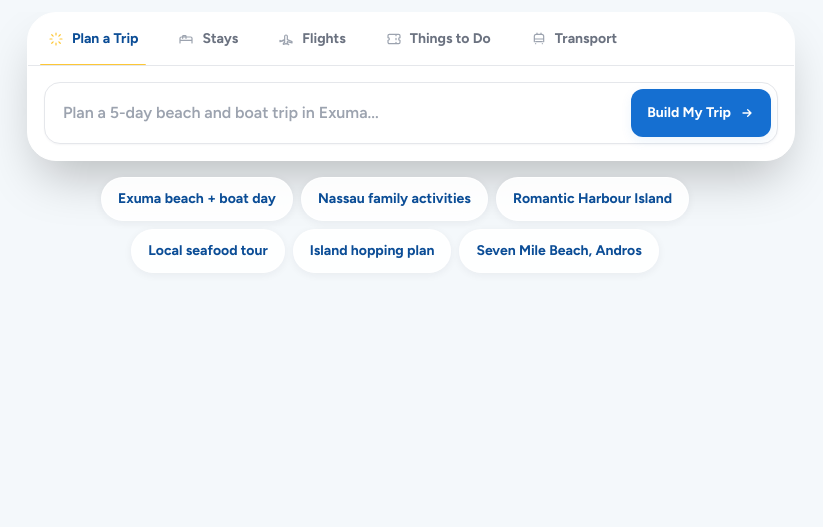
Test: MarketingHeroSearch › keeps flight destination autocomplete and traveler controls modern while preserving form values
The image size is (823, 527).
Click the tab "Flights": (312, 39) top-left (258, 13), bottom-right (366, 65)
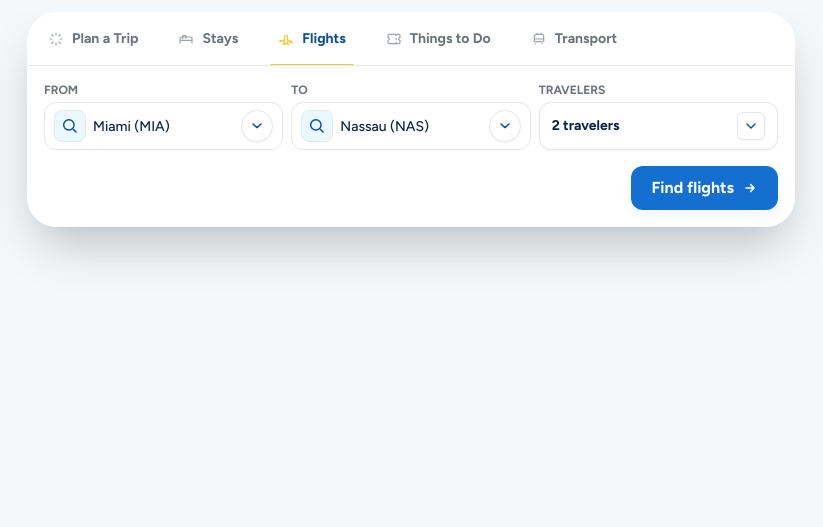
Replace the text in the dropdown labelled "To" with "exuma": (411, 126) top-left (291, 102), bottom-right (531, 150)
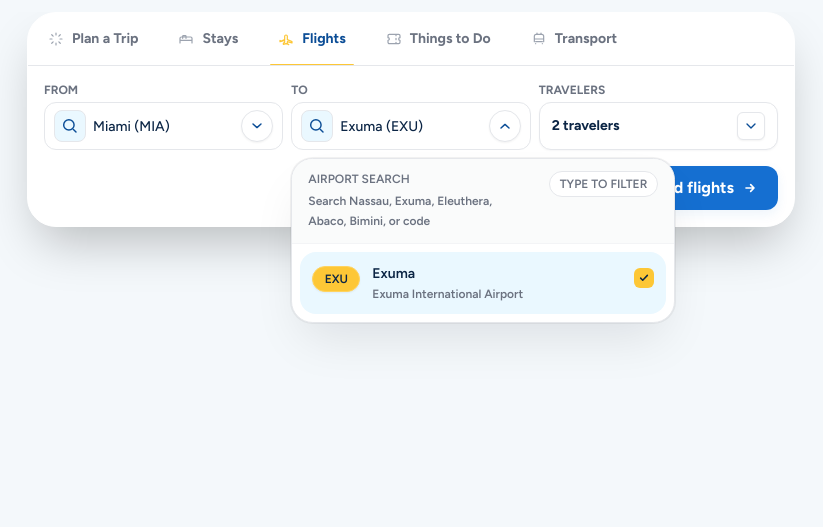
Expected: the text "Exuma International Airport" is shown, top-left (372, 287), bottom-right (523, 301)
Press the mouse on the option "EXU Exuma Exuma International Airport": (336, 279) top-left (300, 252), bottom-right (666, 314)
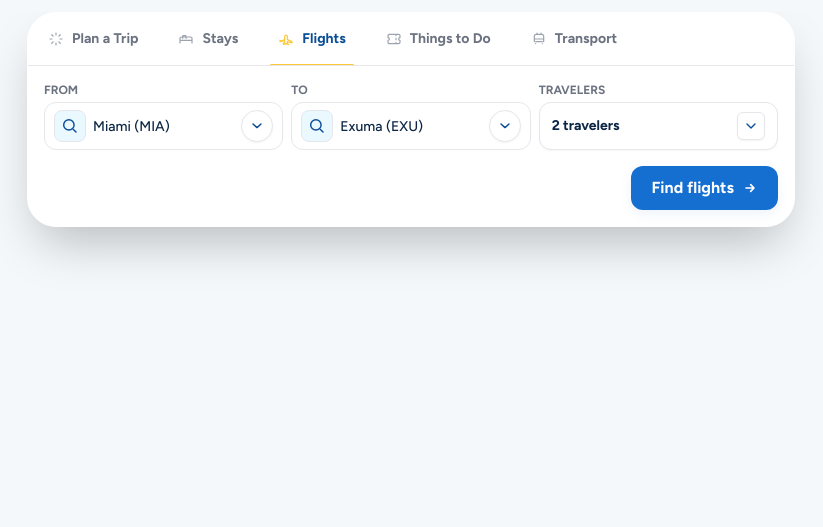
Click the button with aria-label "Open Travelers menu": (658, 126) top-left (539, 102), bottom-right (778, 150)
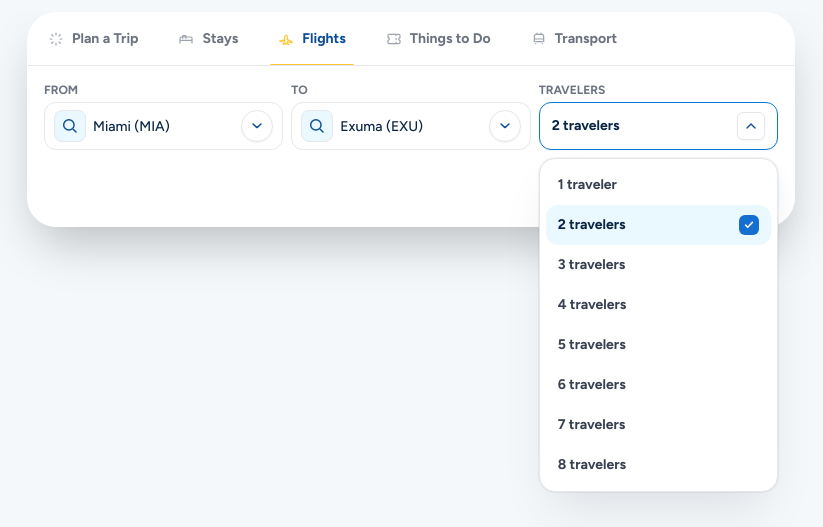
Press the mouse on the option "3 travelers": (658, 265) top-left (546, 245), bottom-right (771, 285)
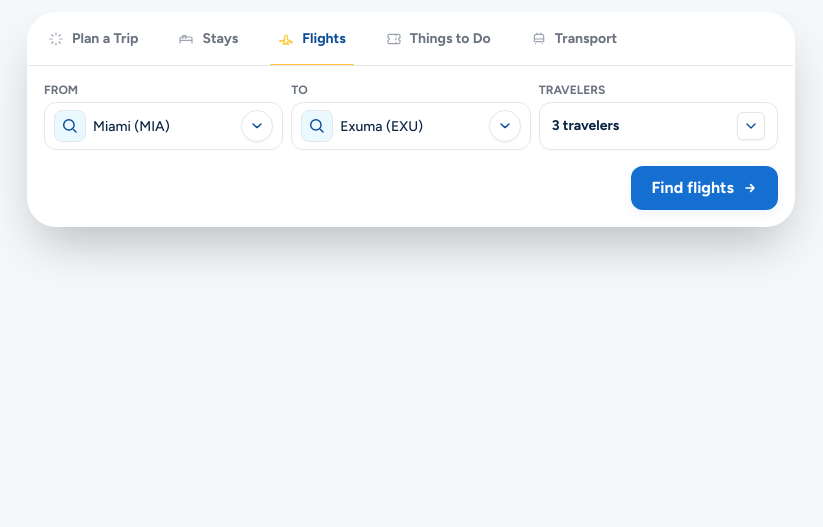
Expected: the dropdown labelled "To" holds "Exuma (EXU)", top-left (291, 102), bottom-right (531, 150)
Expected: the label labelled "Travelers" holds "3", top-left (539, 82), bottom-right (778, 150)
Expected: the button with aria-label "Open Travelers menu" reads "3 travelers", top-left (539, 102), bottom-right (778, 150)
